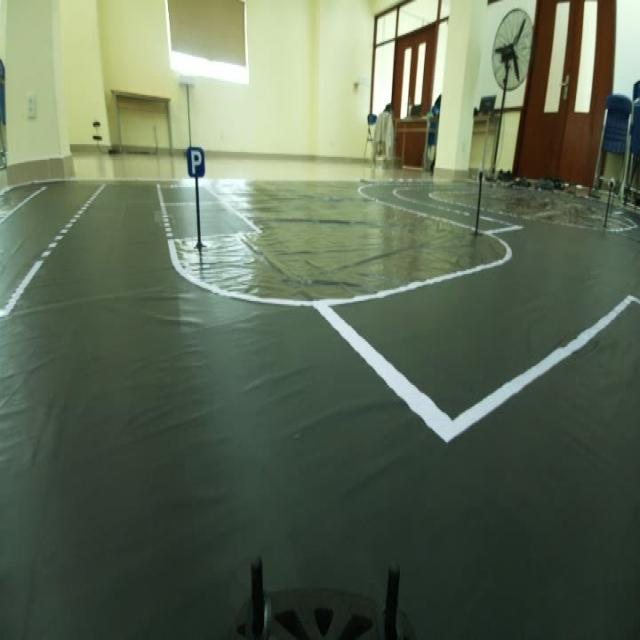parking: (185, 134, 207, 191)
